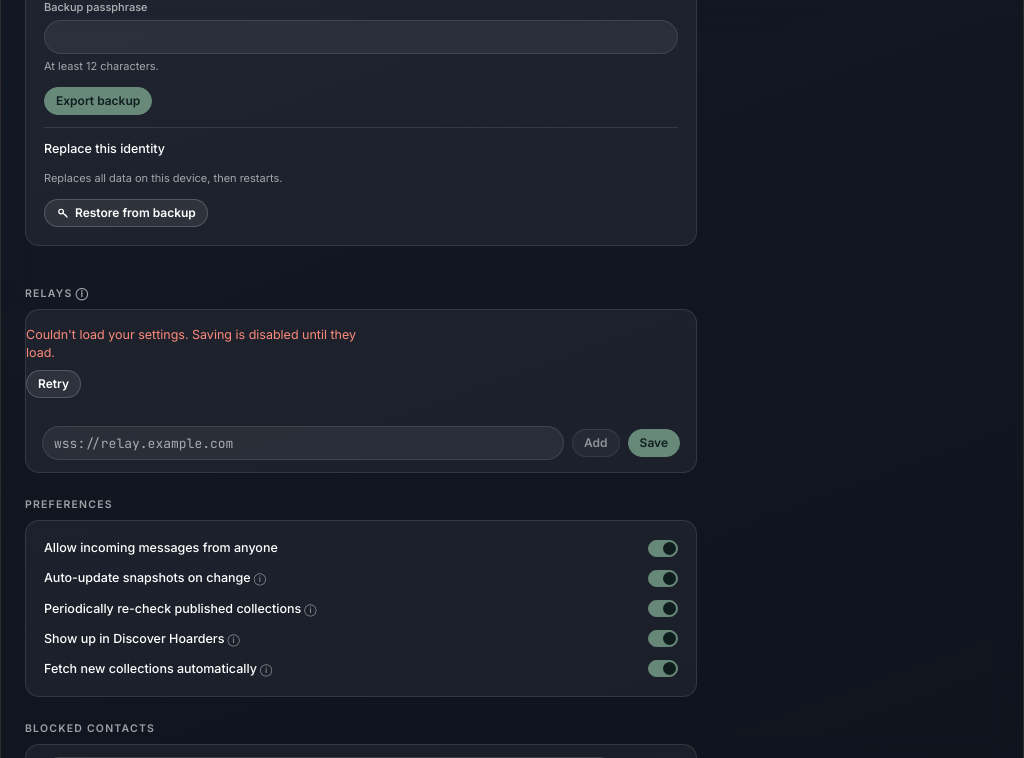
M1 — settings toggles are gated by settingsLoaded, like the Save buttons › Retry: reject → resolve → every toggle re-enables
This screenshot has width=1024, height=758.
(page scrolled)
Click the button "Retry".
click(54, 384)  # box [26,370,81,398]
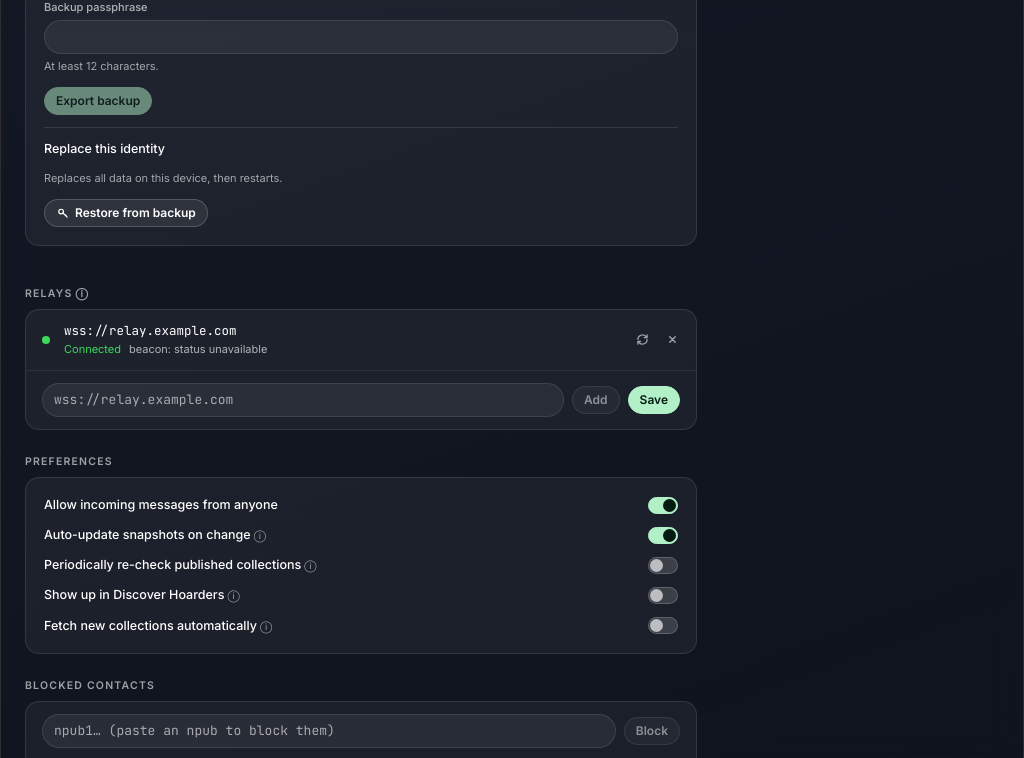
Now the message "Couldn't load your settings. Saving is disabled until they load. Retry" is gone
Now the button named "allow incoming messages from anyone" is enabled, box [648,497,678,514]
Now the button named "auto-update snapshots on change" is enabled, box [648,527,678,544]
